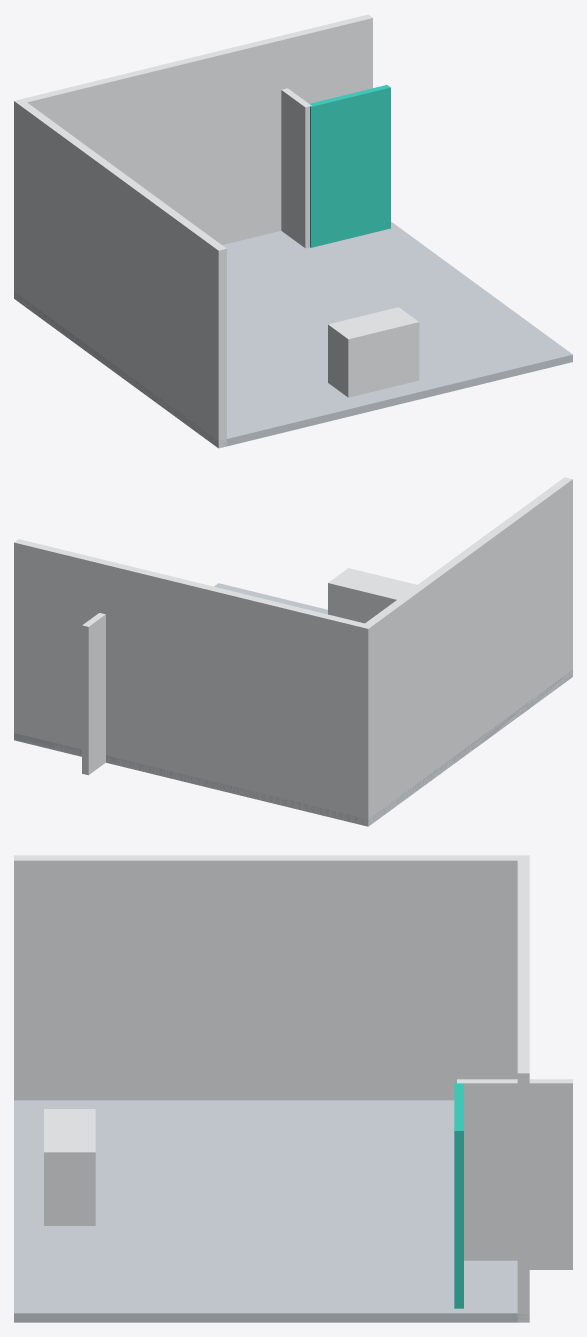
3 views of the same model, one above another, from view 1: azimuth 30°, elevation 25°; view 2: azimuth 150°, elevation 25°; view 3: azimuth 270°, elevation 25° (orthographic). The views are drawn at different scales.
Visible parts, largest first — view 1: Exhibition Booth Concept; view 2: Exhibition Booth Concept; view 3: Exhibition Booth Concept.
Part boxes in pixels (left/top/right/bottom): Exhibition Booth Concept: left=14, top=14, right=572, bottom=448; Exhibition Booth Concept: left=14, top=477, right=572, bottom=826; Exhibition Booth Concept: left=14, top=855, right=572, bottom=1322.
Bounding box in the file's own units: 6 × 3.2 × 6.51.
